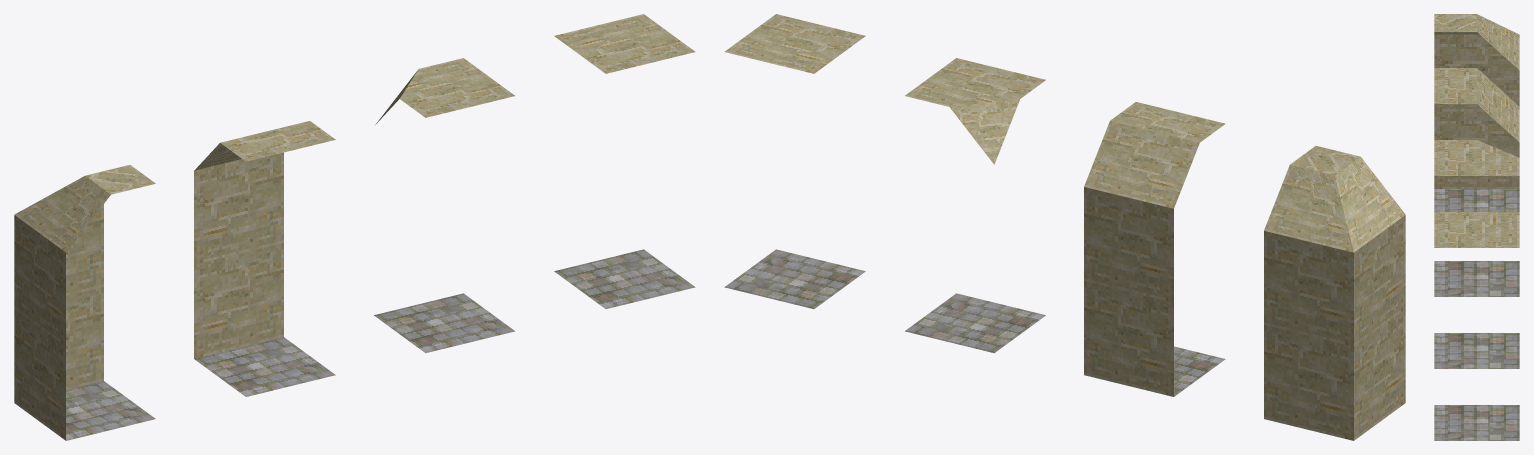
The model's file is tileset.glb.
3 views of the same model, side by side, from view 1: azimuth 30°, elevation 25°; view 2: azimuth 150°, elevation 25°; view 3: azimuth 270°, elevation 25° (orthographic). The views are drawn at different scales.
Parts seen in each view (by area): view 1: wall-col, corner-in-col, floor-col, corner-out-col; view 2: corner-in-col, wall-col, corner-out-col, floor-col; view 3: corner-in-col, wall-col, floor-col, corner-out-col.
Boxes of the visible parts, x1,y1,x2,y2 form: wall-col: [194, 121, 335, 396]; corner-in-col: [14, 165, 155, 440]; floor-col: [554, 14, 695, 308]; corner-out-col: [374, 58, 514, 353]; corner-in-col: [1264, 146, 1405, 440]; wall-col: [1084, 102, 1225, 396]; corner-out-col: [905, 58, 1045, 353]; floor-col: [724, 14, 865, 308]; corner-in-col: [1434, 14, 1519, 211]; wall-col: [1434, 68, 1519, 296]; floor-col: [1434, 212, 1519, 440]; corner-out-col: [1434, 140, 1519, 368].
Size of the model in its own units: 7 by 2.5 by 1.
1 material, 1 textured.
